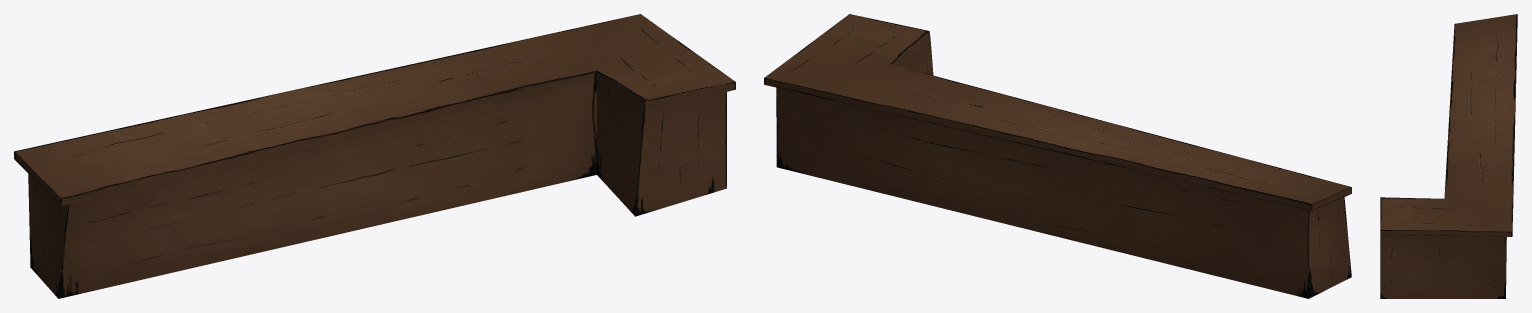
The model's file is Bar 1.fbx.
3 renders of one model, left to right at view 1: azimuth 30°, elevation 25°; view 2: azimuth 150°, elevation 25°; view 3: azimuth 270°, elevation 25°, orthographic. The views are drawn at different scales.
Visible parts, largest first — view 1: Bar; view 2: Bar; view 3: Bar.
Part boxes in pixels (bbox=[...]): Bar: bbox=[14, 14, 735, 298]; Bar: bbox=[764, 14, 1351, 298]; Bar: bbox=[1380, 14, 1517, 298].
Bounding box in the file's own units: 715 × 132 × 198.
1 material, 1 textured.
